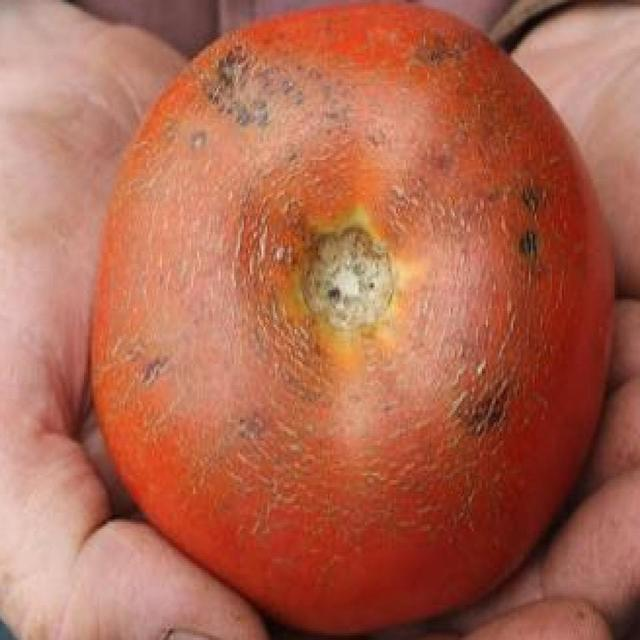Cracking Fruit: (68, 13, 390, 373)
